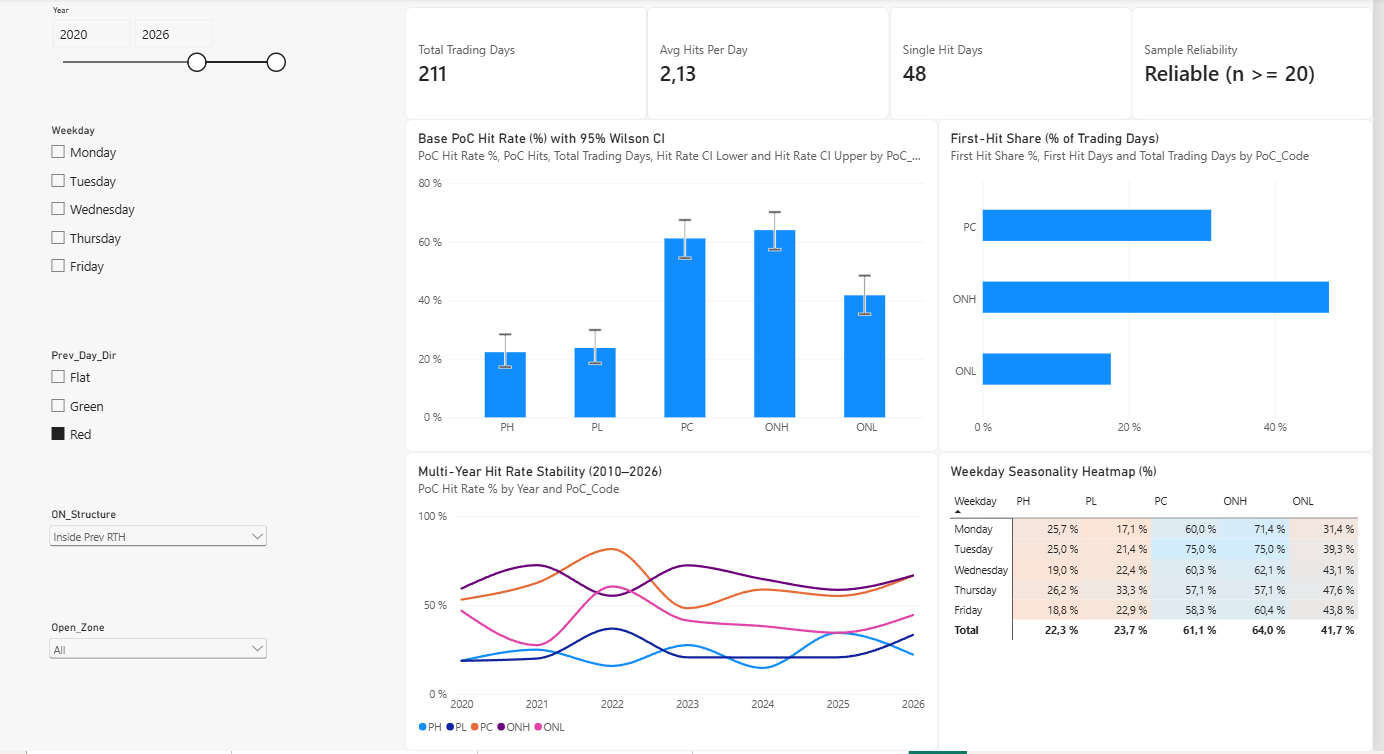

This screenshot's page, from the dashboard's own definition file:
{"tool":"powerbi","page":{"name":"Base Probabilities","canvas":[1920,1080],"ordinal":0},"visuals":[{"type":"slicer","fields":{"Values":["Dim_Date.Year"]},"box":[151.7,86.7,321.7,97.5],"z":0},{"type":"slicer","fields":{"Values":["Dim_Date.Weekday"]},"box":[151,243.7,300,220],"z":1000},{"type":"slicer","fields":{"Values":["Fact_Trading_Days.Prev_Day_Dir"]},"box":[151,543.7,300,140],"z":2000},{"type":"slicer","fields":{"Values":["Fact_Trading_Days.ON_Structure"]},"box":[151,756,300,72.9],"z":3000},{"type":"slicer","fields":{"Values":["Fact_Trading_Days.Open_Zone"]},"box":[151,906.8,300,71.4],"z":4000},{"type":"cardVisual","fields":{"Data":["_Measures.Total Trading Days"]},"box":[630,87.5,322.5,150],"z":5000},{"type":"cardVisual","fields":{"Data":["_Measures.Avg Hits Per Day"]},"box":[952.5,87.5,322,150],"z":6000},{"type":"cardVisual","fields":{"Data":["_Measures.Single Hit Days"]},"box":[1275,87.5,322,150],"z":7000},{"type":"cardVisual","fields":{"Data":["_Measures.Sample Reliability"]},"box":[1597.5,87.5,322,150],"z":8000},{"type":"clusteredColumnChart","title":"Base PoC Hit Rate (%) with 95% Wilson CI","fields":{"Category":["Dim_PoC.PoC_Code"],"Y":["_Measures.PoC Hit Rate %"]},"box":[630,237.5,710,442.5],"z":9000},{"type":"clusteredBarChart","title":"First-Hit Share (% of Trading Days)","fields":{"Category":["Dim_PoC.PoC_Code"],"Y":["_Measures.First Hit Share %"]},"box":[1340,237.5,580,442.5],"z":10000},{"type":"lineChart","title":"Multi-Year Hit Rate Stability (2010–2026)","fields":{"Category":["Dim_Date.Year"],"Series":["Dim_PoC.PoC_Code"],"Y":["_Measures.PoC Hit Rate %"]},"box":[630,682.5,710,397.5],"z":11000},{"type":"pivotTable","title":"Weekday Seasonality Heatmap (%)","fields":{"Columns":["Dim_PoC.PoC_Code"],"Rows":["Dim_Date.Weekday"],"Values":["_Measures.PoC Hit Rate %"]},"box":[1340.9,682.4,579.8,398.4],"z":12000}]}

Visuals, with their boxes on the page's 1920x1080 design canvas (x1, y1, x2, y2). These are canvas units, not pixel positions in the 1384x754 screenshot, which may show the page scaled, cropped or inside an application window:
slicer - Dim_Date.Year: x1=152, y1=87, x2=473, y2=184
slicer - Dim_Date.Weekday: x1=151, y1=244, x2=451, y2=464
slicer - Fact_Trading_Days.Prev_Day_Dir: x1=151, y1=544, x2=451, y2=684
slicer - Fact_Trading_Days.ON_Structure: x1=151, y1=756, x2=451, y2=829
slicer - Fact_Trading_Days.Open_Zone: x1=151, y1=907, x2=451, y2=978
cardVisual - _Measures.Total Trading Days: x1=630, y1=88, x2=952, y2=238
cardVisual - _Measures.Avg Hits Per Day: x1=952, y1=88, x2=1274, y2=238
cardVisual - _Measures.Single Hit Days: x1=1275, y1=88, x2=1597, y2=238
cardVisual - _Measures.Sample Reliability: x1=1598, y1=88, x2=1920, y2=238
"Base PoC Hit Rate (%) with 95% Wilson CI" clusteredColumnChart: x1=630, y1=238, x2=1340, y2=680
"First-Hit Share (% of Trading Days)" clusteredBarChart: x1=1340, y1=238, x2=1920, y2=680
"Multi-Year Hit Rate Stability (2010–2026)" lineChart: x1=630, y1=682, x2=1340, y2=1080
"Weekday Seasonality Heatmap (%)" pivotTable: x1=1341, y1=682, x2=1921, y2=1081
